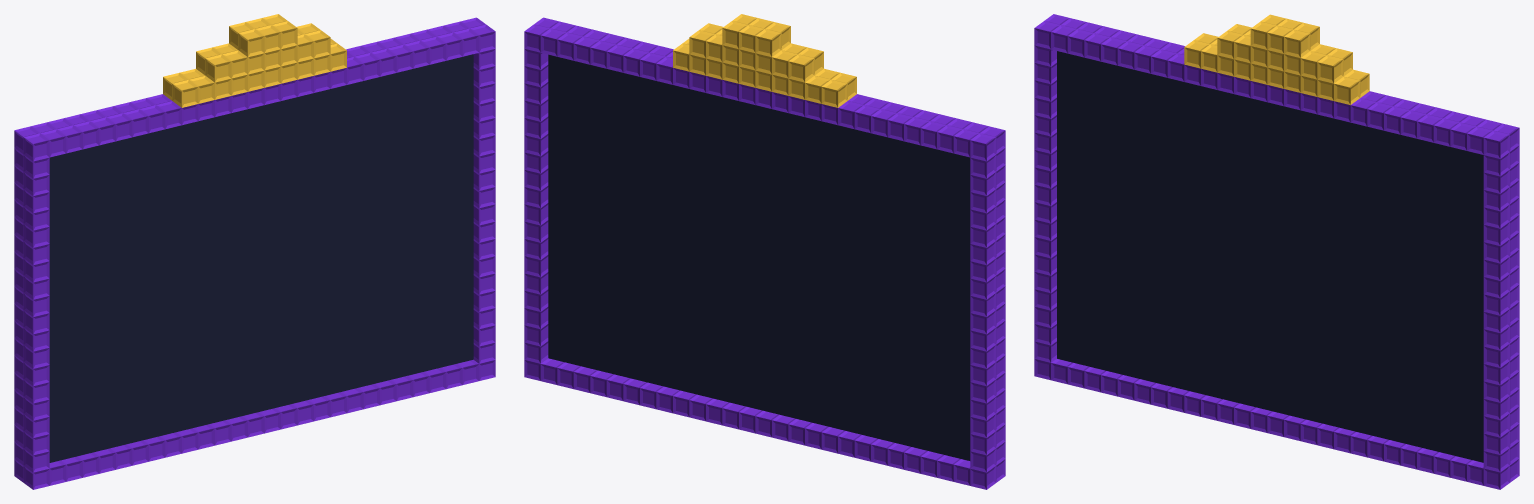
The model's file is Tablero.fbx.
The picture shows the model from 3 angles, left to right: view 1: azimuth 30°, elevation 25°; view 2: azimuth 150°, elevation 25°; view 3: azimuth 330°, elevation 25°; orthographic projection.
Visible parts, largest first — view 1: Pantalla, Marco, Remate; view 2: Pantalla, Marco, Remate; view 3: Pantalla, Marco, Remate.
Part boxes in pixels (box(x1,y1,x2,y2)): Pantalla: box(49, 54, 473, 462); Marco: box(14, 17, 495, 489); Remate: box(163, 14, 346, 107); Pantalla: box(548, 54, 970, 460); Marco: box(524, 17, 1005, 489); Remate: box(673, 14, 856, 107); Pantalla: box(1057, 51, 1483, 462); Marco: box(1034, 14, 1519, 489); Remate: box(1184, 14, 1369, 104).
Size of the model in its own units: 3.92 by 3.22 by 0.28.
